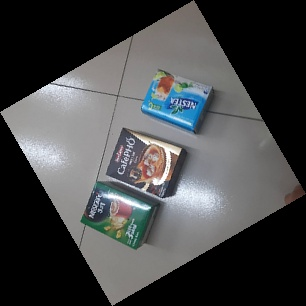CF pho: (104, 128, 188, 198)
Nes Rang: (78, 181, 159, 250)
Nestea: (141, 69, 215, 135)
